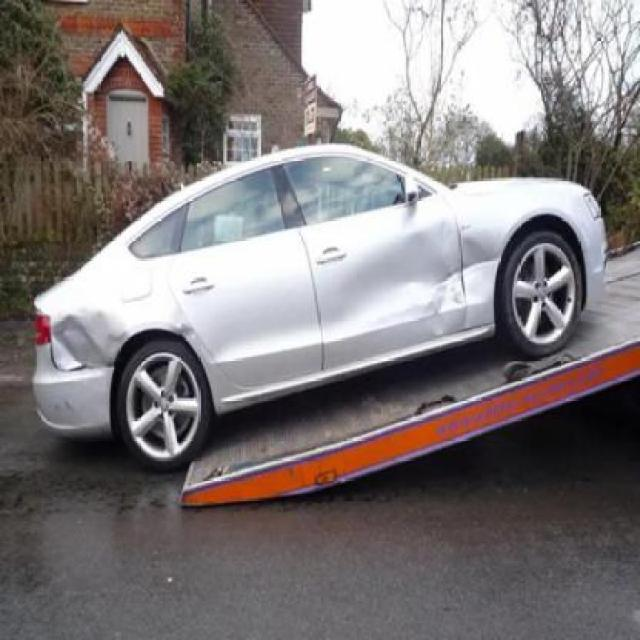doorouter-dent: (308, 191, 468, 355)
fender-dent: (459, 182, 553, 331)
quaterpanel-dent: (51, 260, 185, 367)
